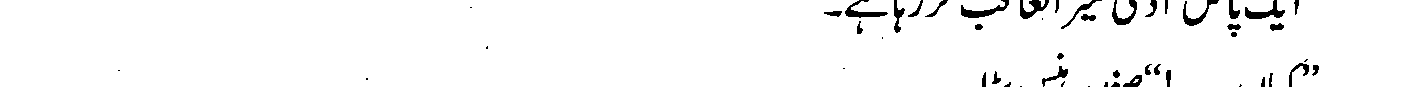bay_shosha: (957, 2, 1000, 33)
